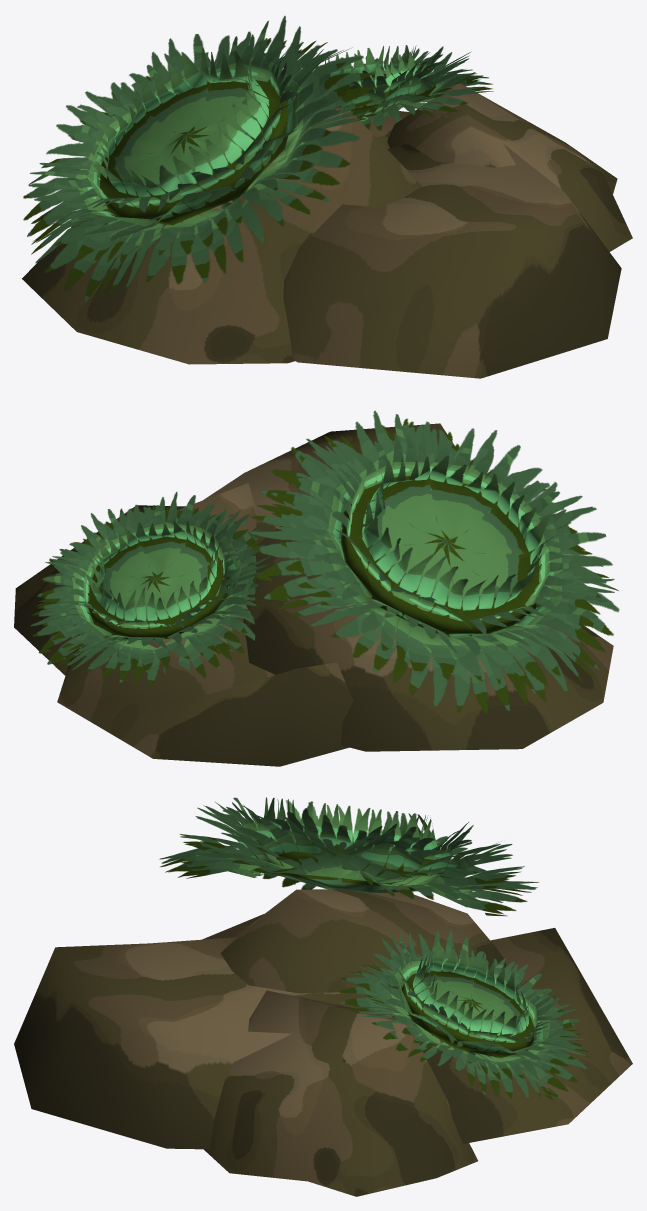
Rendered from Giant Green Anemone 2_preview_3DS_simplified.glb.
3 renders of one model, top to bottom at view 1: azimuth 30°, elevation 25°; view 2: azimuth 150°, elevation 25°; view 3: azimuth 270°, elevation 25°, orthographic. The views are drawn at different scales.
Parts seen in each view (by area): view 1: Marine Park Empire model; view 2: Marine Park Empire model; view 3: Marine Park Empire model.
Boxes of the visible parts, x1,y1,x2,y2 form: Marine Park Empire model: (22,15,632,378); Marine Park Empire model: (14,410,619,766); Marine Park Empire model: (14,797,632,1196).
Size of the model in its own units: 71.73 by 30.27 by 67.38.
2 materials, 2 textured.
